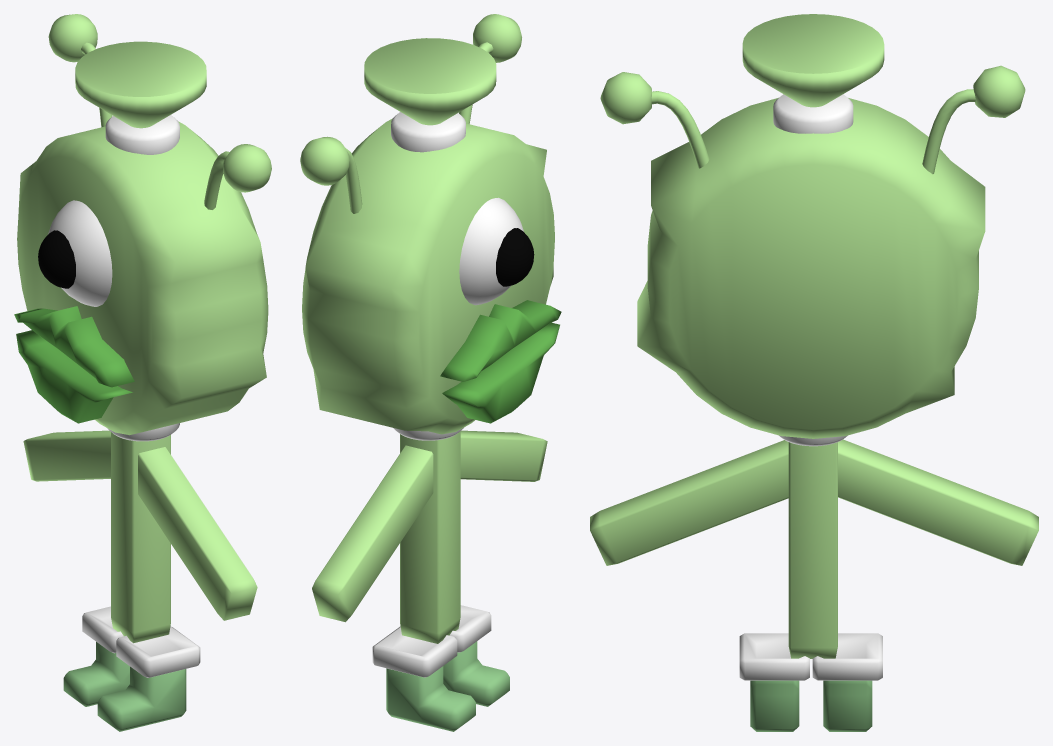
The model's file is pet-puklian.glb.
The picture shows the model from 3 angles, left to right: view 1: azimuth 30°, elevation 25°; view 2: azimuth 150°, elevation 25°; view 3: azimuth 270°, elevation 25°; orthographic projection. The views are drawn at different scales.
Size of the model in its own units: 0.00158 by 0.006 by 0.00359.
